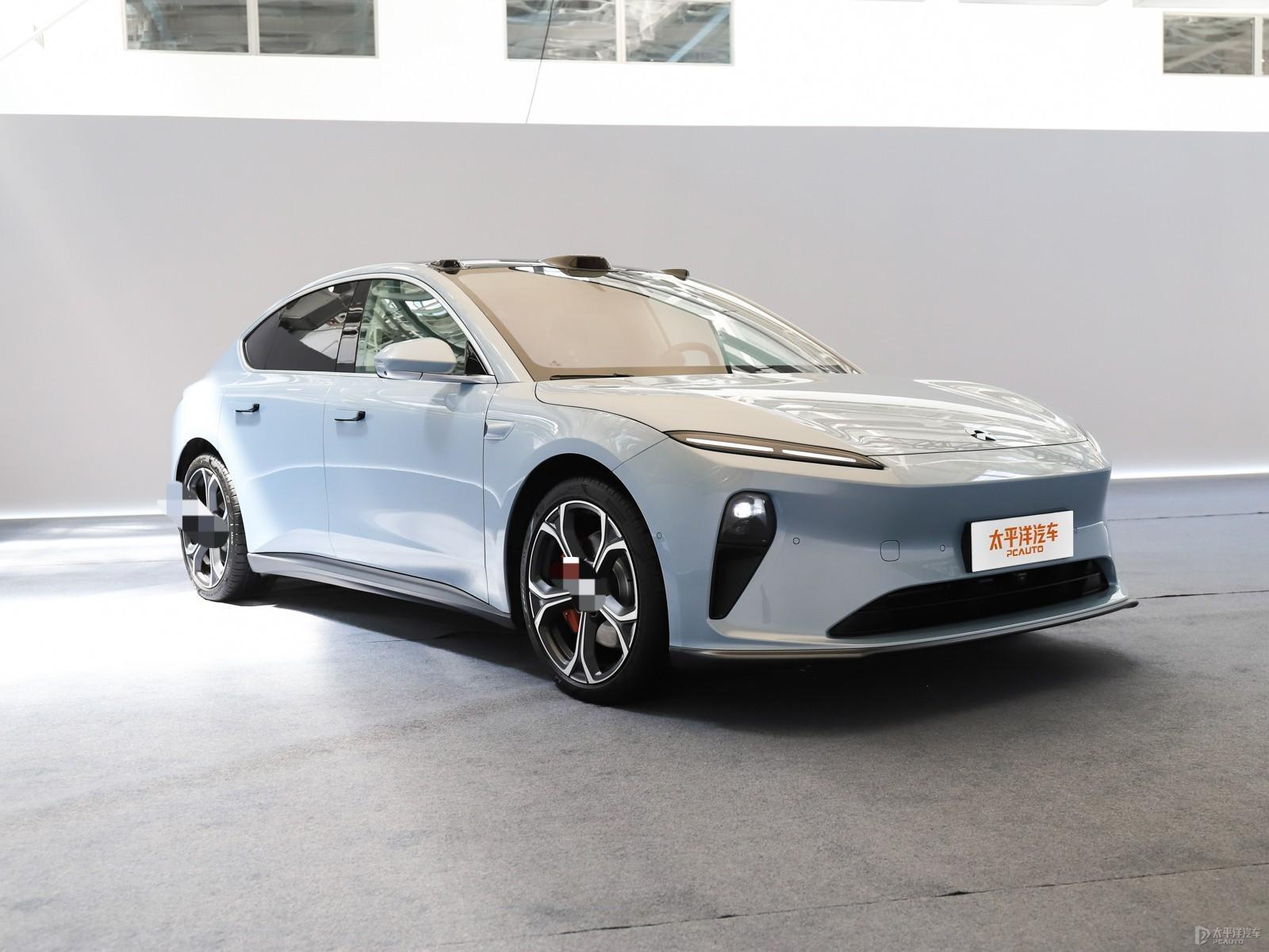NIO: (964, 426, 998, 441)
